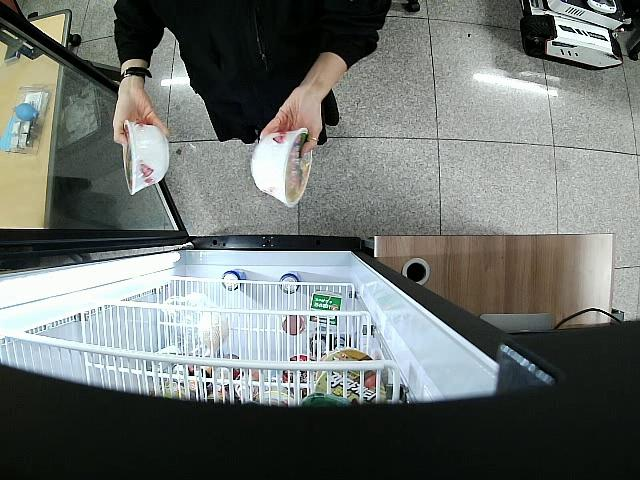00_hand: (259, 89, 323, 160), (112, 94, 169, 149)
09_yukGaeJang: (251, 127, 312, 209), (121, 120, 170, 197)
